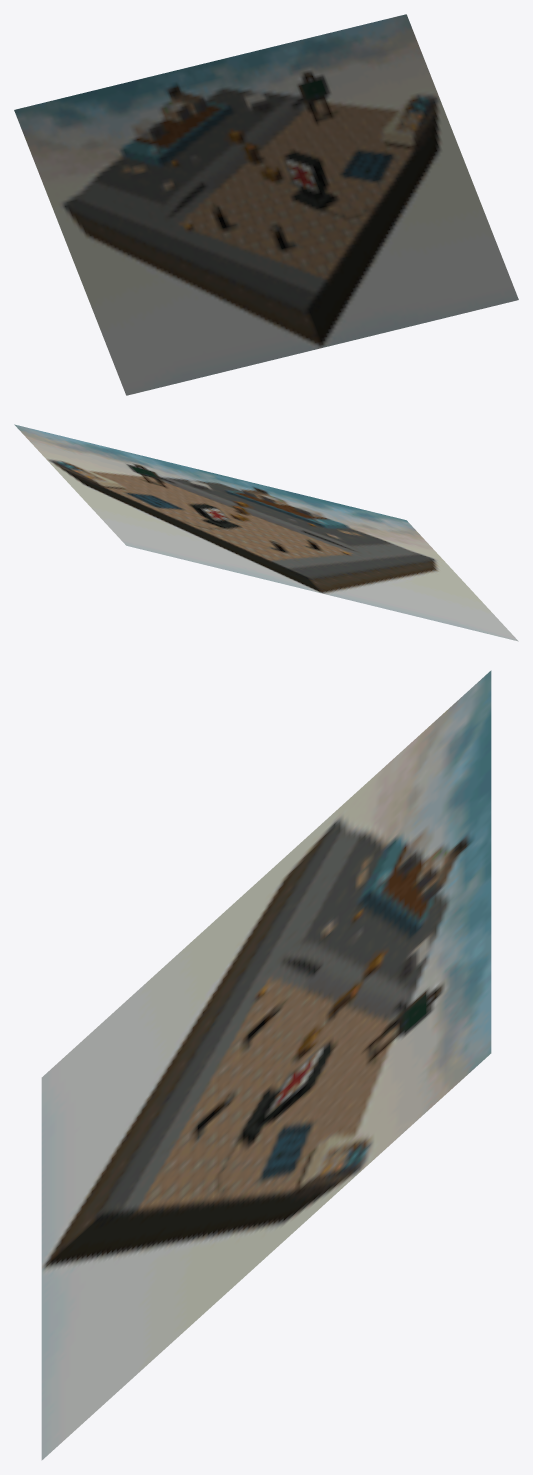
3 renders of one model, top to bottom at view 1: azimuth 30°, elevation 25°; view 2: azimuth 150°, elevation 25°; view 3: azimuth 270°, elevation 25°, orthographic. The views are drawn at different scales.
Parts seen in each view (by area): view 1: Joint_0_Object_0; view 2: Joint_0_Object_0; view 3: Joint_0_Object_0.
Part boxes in pixels (x1,y1,x2,y2): Joint_0_Object_0: (14,14,518,395); Joint_0_Object_0: (14,424,518,641); Joint_0_Object_0: (41,670,491,1460).
Size of the model in its own units: 241 by 120 by 120.
Materials: 1 (1 with a texture image).
